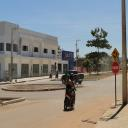Pare: (111, 60, 120, 75)
Rotatoria: (111, 47, 120, 61)
